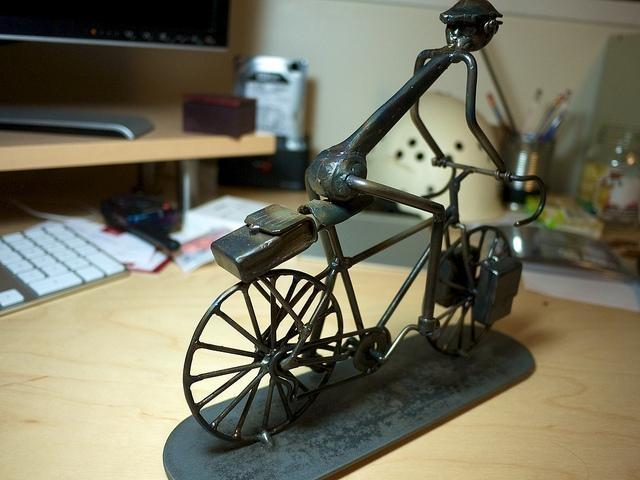bicycle: (184, 162, 546, 444)
